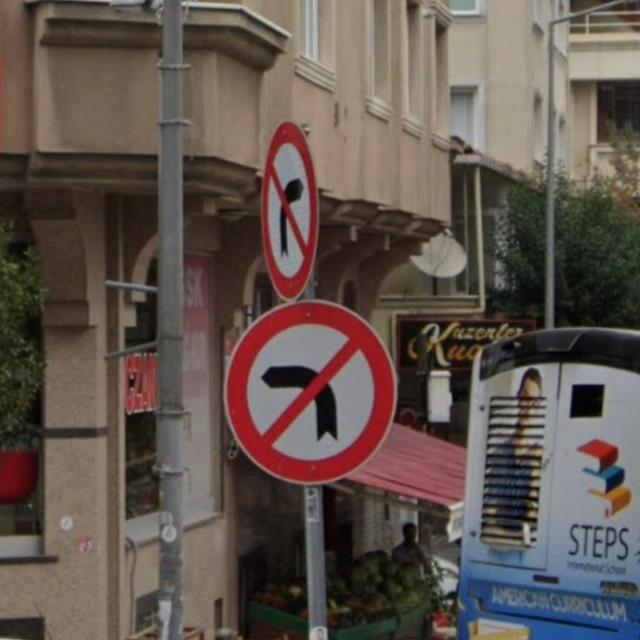sagadonulmez: (261, 121, 319, 302)
soladonulmez: (221, 300, 399, 482)
